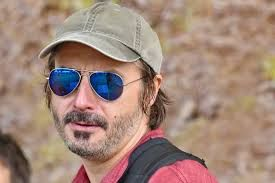no-mask: (39, 17, 161, 157)
